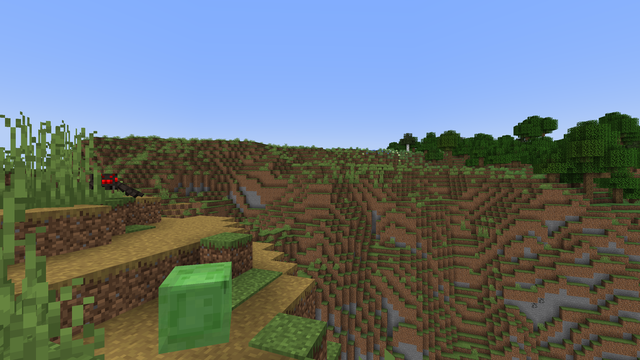araignees: (64, 170, 140, 200)
slimes: (150, 258, 243, 355), (325, 252, 328, 256)
